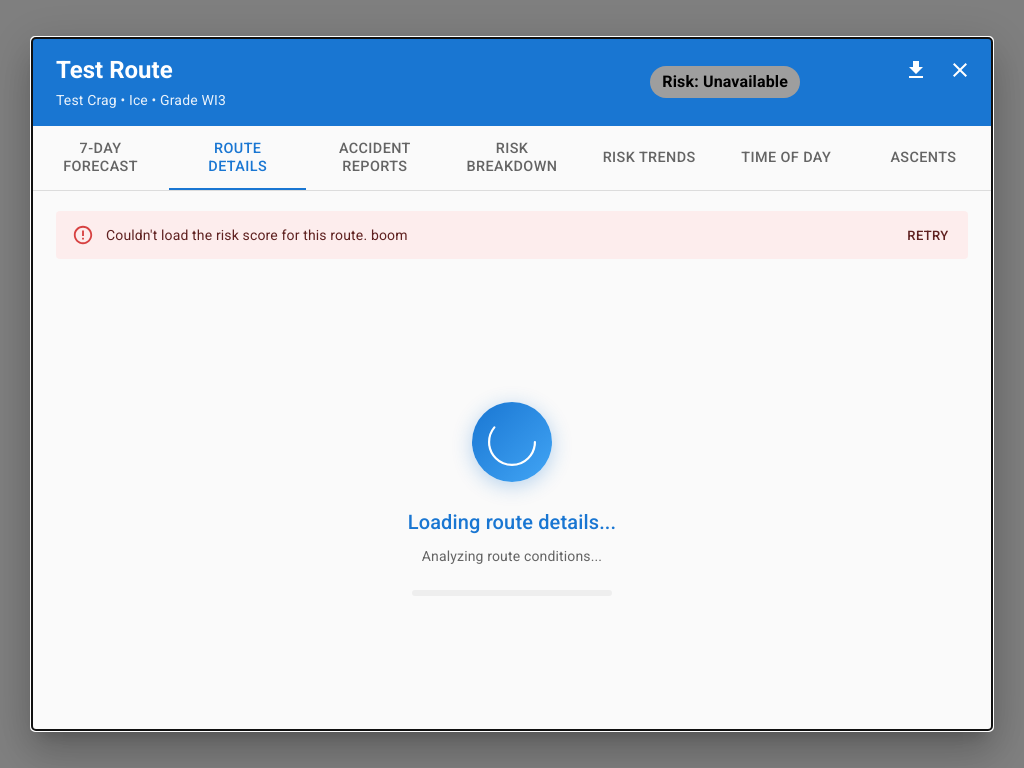
Test case: RouteAnalyticsModal risk display › Retry refetches and then shows the real score
Click the button "Retry": [928, 237] box x1=896 y1=221 x2=960 y2=252
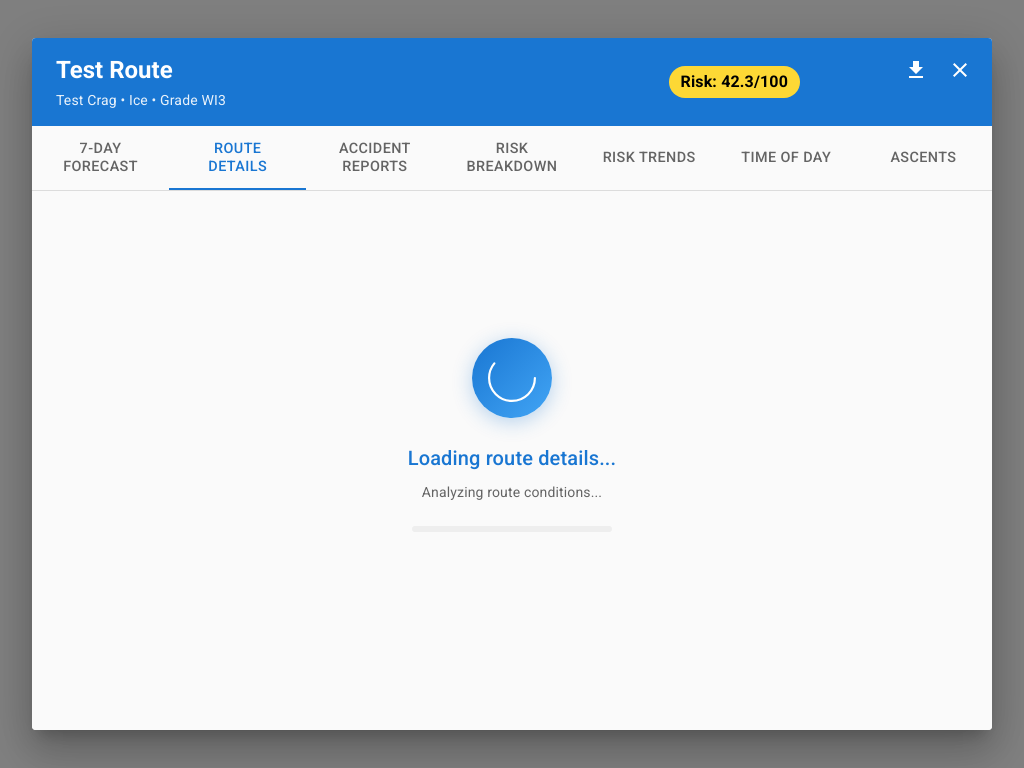
Result: the text "Risk: 42.3/100" is shown at x1=680 y1=72 x2=788 y2=91
Result: the text "couldn.t load the risk score" is gone
